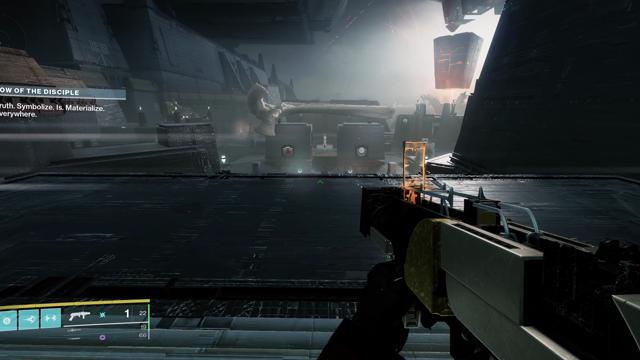pyramid: (283, 146, 293, 157)
traveler: (356, 146, 367, 157)
